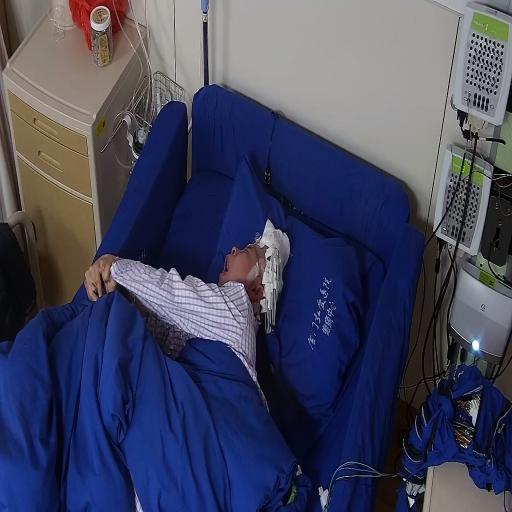Seizure: (222, 225, 276, 306)
